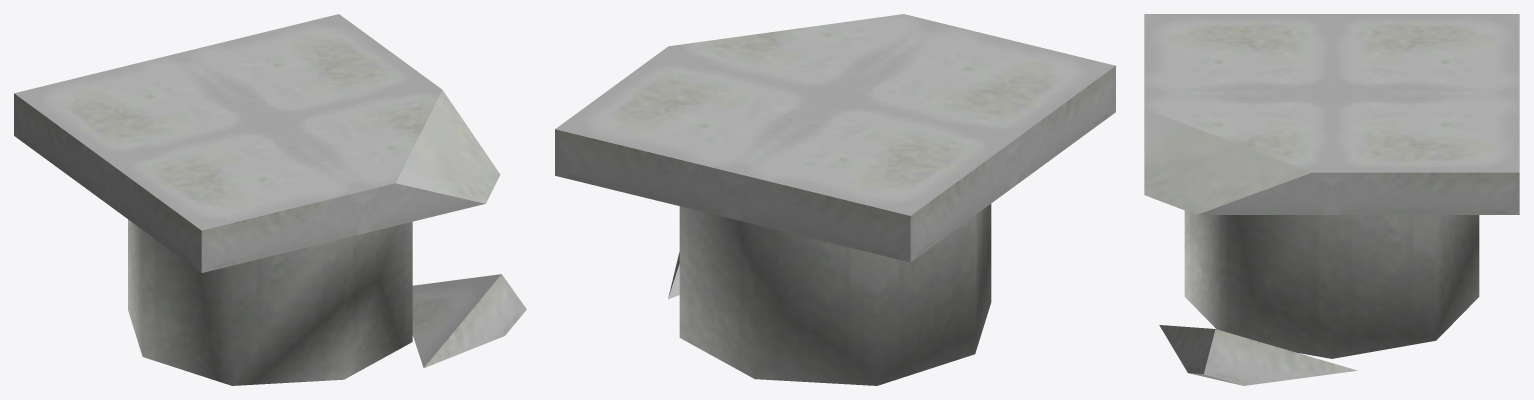
Rendered from general_obj_bigtower12.fbx.
3 views of the same model, side by side, from view 1: azimuth 30°, elevation 25°; view 2: azimuth 150°, elevation 25°; view 3: azimuth 270°, elevation 25° (orthographic). The views are drawn at different scales.
Parts seen in each view (by area): view 1: Sphere01; view 2: Sphere01; view 3: Sphere01.
Boxes of the visible parts, bbox=[...] form: Sphere01: bbox=[14, 14, 526, 385]; Sphere01: bbox=[555, 14, 1115, 385]; Sphere01: bbox=[1144, 14, 1519, 385].
Bounding box in the file's own units: 4.37 × 2.46 × 4.
